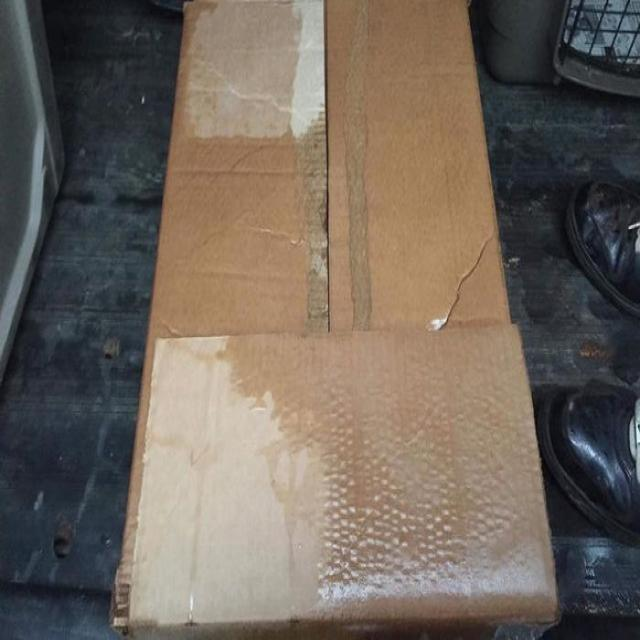wet: (225, 344, 547, 610)
